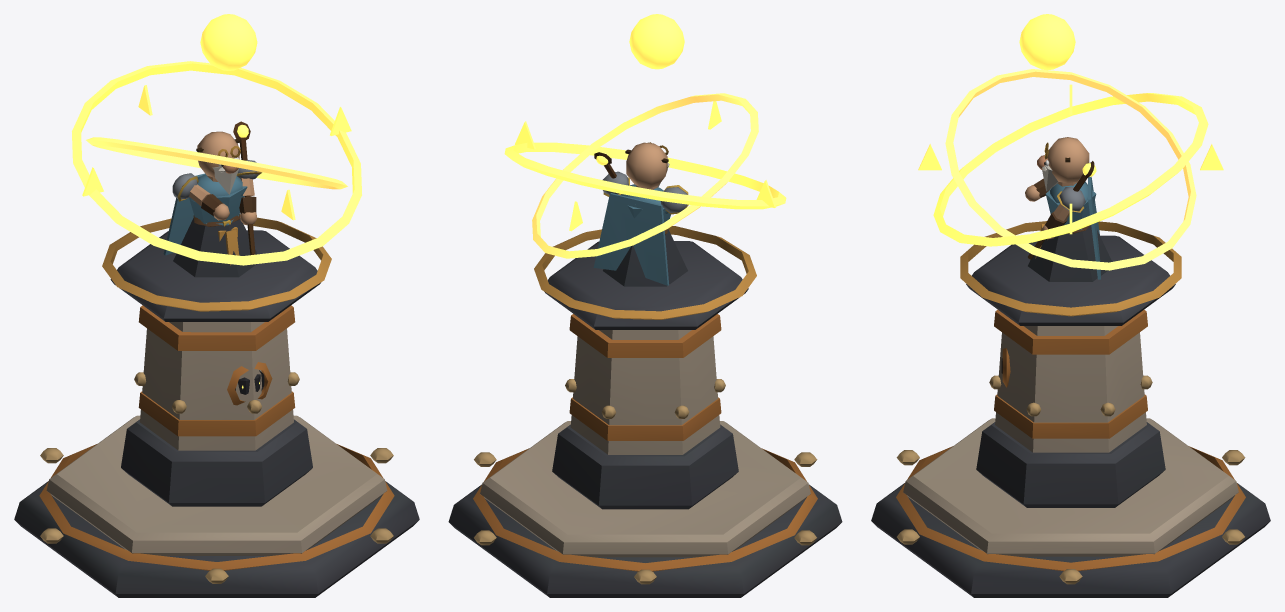
File: nains_9.glb
The picture shows the model from 3 angles, left to right: view 1: azimuth 30°, elevation 25°; view 2: azimuth 150°, elevation 25°; view 3: azimuth 270°, elevation 25°; orthographic projection. The views are drawn at different scales.
Parts seen in each view (by area): view 1: nains_9_peint, Anneaux_lueur, Buste_peint, AnneauB, OrbeMagique, Crane_peint, BrasG_peint, BrasD_peint; view 2: nains_9_peint, Buste_peint, Anneaux_lueur, AnneauB, OrbeMagique, Crane_peint; view 3: nains_9_peint, Anneaux_lueur, AnneauB, Buste_peint, OrbeMagique, Crane_peint, BrasD_peint.
Part boxes in pixels (x1=…): nains_9_peint: x1=14, y1=215, x2=419, y2=597; Anneaux_lueur: x1=72, y1=61, x2=361, y2=265; Buste_peint: x1=163, y1=173, x2=257, y2=277; AnneauB: x1=86, y1=137, x2=347, y2=189; OrbeMagique: x1=200, y1=14, x2=257, y2=70; Crane_peint: x1=196, y1=131, x2=240, y2=194; BrasG_peint: x1=172, y1=173, x2=229, y2=220; BrasD_peint: x1=236, y1=160, x2=261, y2=225; nains_9_peint: x1=448, y1=226, x2=842, y2=597; Buste_peint: x1=593, y1=184, x2=687, y2=286; Anneaux_lueur: x1=504, y1=101, x2=786, y2=231; AnneauB: x1=532, y1=93, x2=758, y2=258; OrbeMagique: x1=629, y1=14, x2=684, y2=69; Crane_peint: x1=625, y1=142, x2=669, y2=187; nains_9_peint: x1=871, y1=221, x2=1270, y2=597; Anneaux_lueur: x1=918, y1=84, x2=1223, y2=246; AnneauB: x1=945, y1=69, x2=1196, y2=270; Buste_peint: x1=1028, y1=176, x2=1111, y2=281; OrbeMagique: x1=1019, y1=14, x2=1075, y2=70; Crane_peint: x1=1037, y1=137, x2=1089, y2=191; BrasD_peint: x1=1041, y1=187, x2=1085, y2=238.
Bounding box in the file's own units: 0.8433 × 1.2 × 0.8517.
